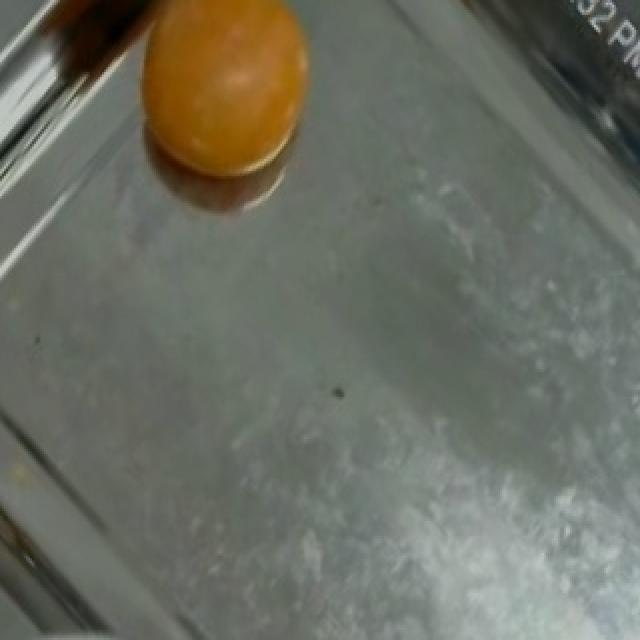Fruit: (108, 0, 344, 208)
